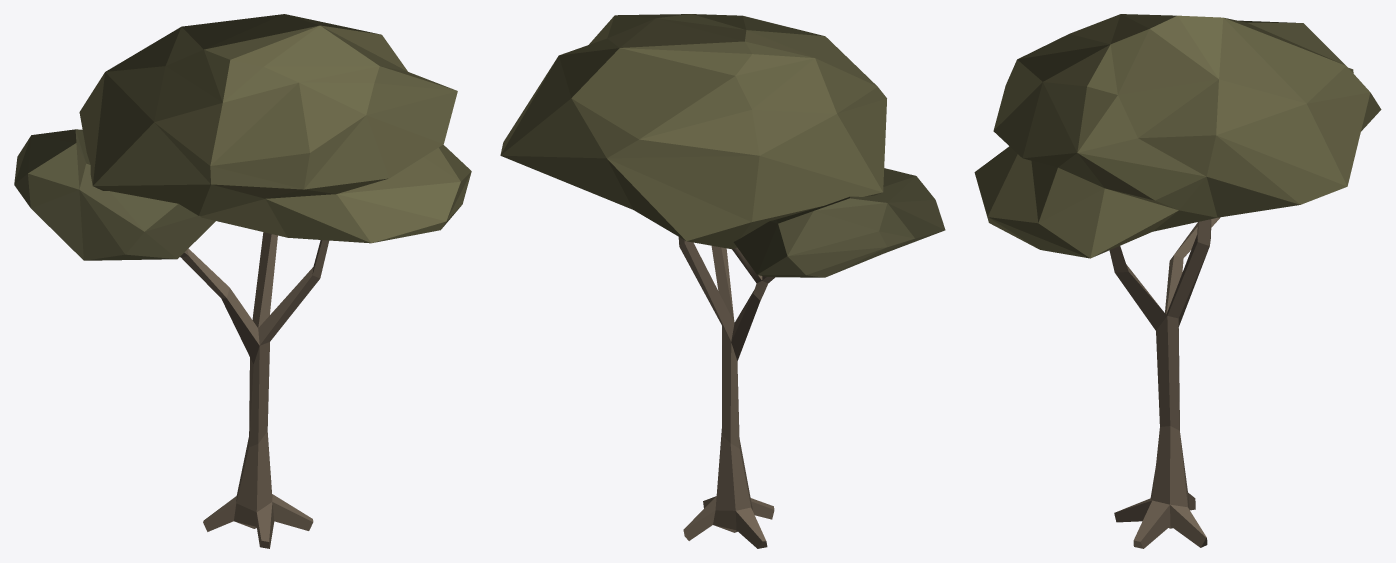
The model's file is SM_Env_Tree_Round_01.fbx.
3 views of the same model, side by side, from view 1: azimuth 30°, elevation 25°; view 2: azimuth 150°, elevation 25°; view 3: azimuth 270°, elevation 25° (orthographic). The views are drawn at different scales.
Visible parts, largest first — view 1: SM_Env_Tree_Round_01; view 2: SM_Env_Tree_Round_01; view 3: SM_Env_Tree_Round_01.
Boxes of the visible parts, x1=… form: SM_Env_Tree_Round_01: x1=14, y1=14, x2=471, y2=548; SM_Env_Tree_Round_01: x1=500, y1=14, x2=945, y2=548; SM_Env_Tree_Round_01: x1=974, y1=14, x2=1381, y2=548.
Bounding box in the file's own units: 422 × 504 × 368.
